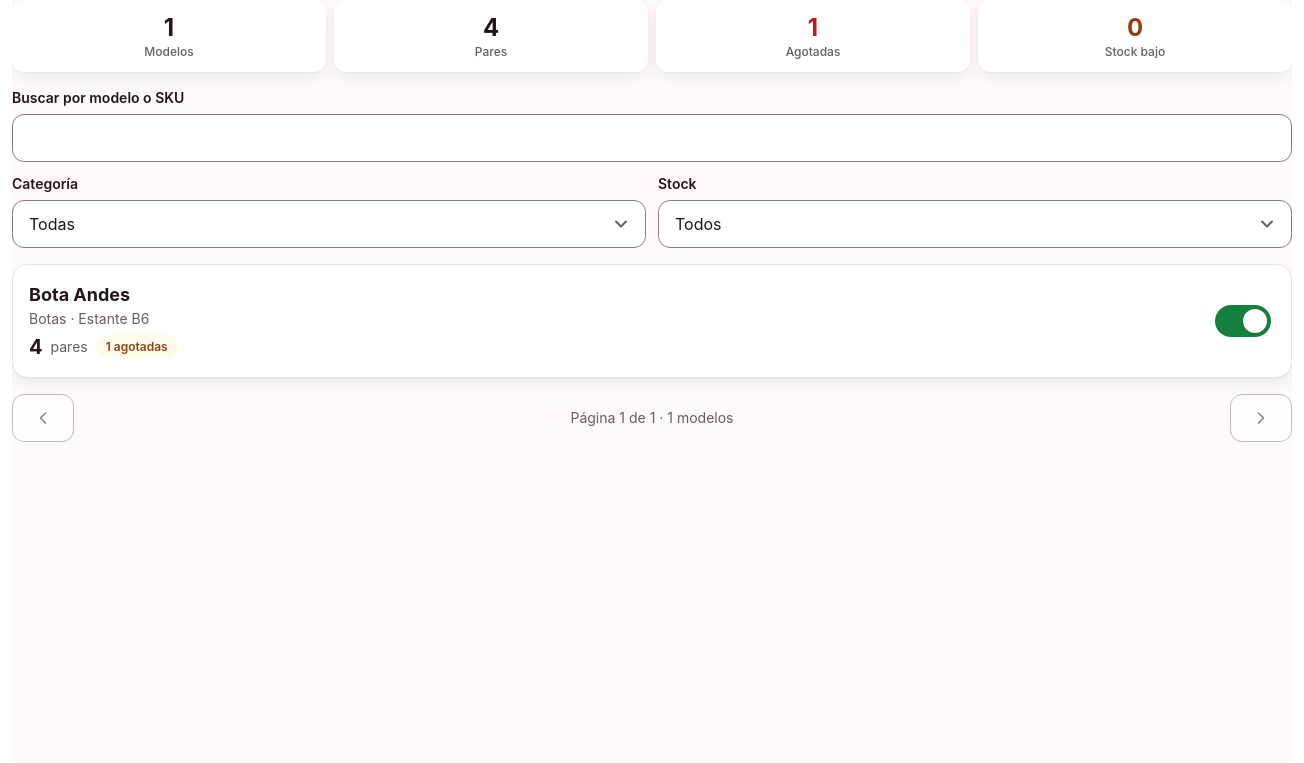
Test case: Inventario: matriz — al tocar una celda aparecen ingresar, retirar y ajustar
Click the button "Bota Andes Botas · Estante B6 4 pares 1 agotadas" at (80, 294), box x1=29 y1=273 x2=1203 y2=369
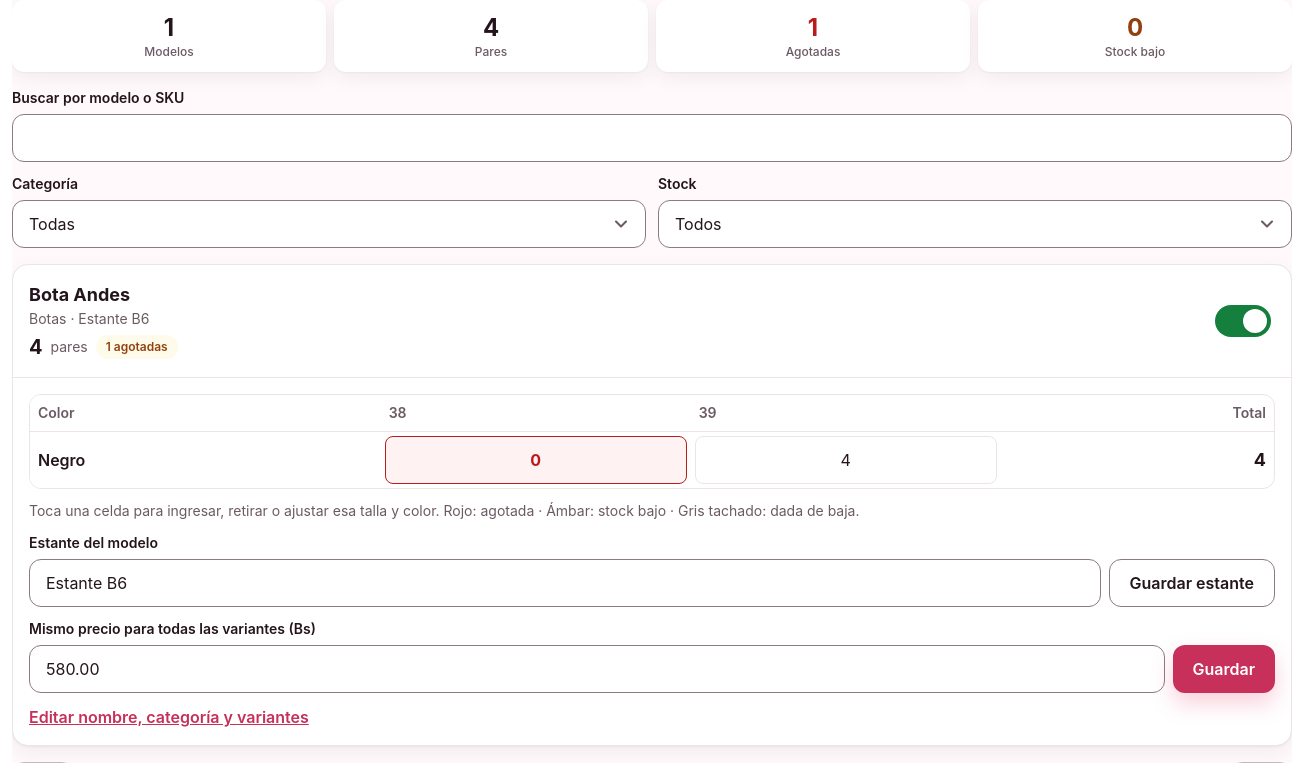
Click the button named "Talla 39 Negro: 4 disponibles" at (846, 460), box x1=695 y1=436 x2=997 y2=484
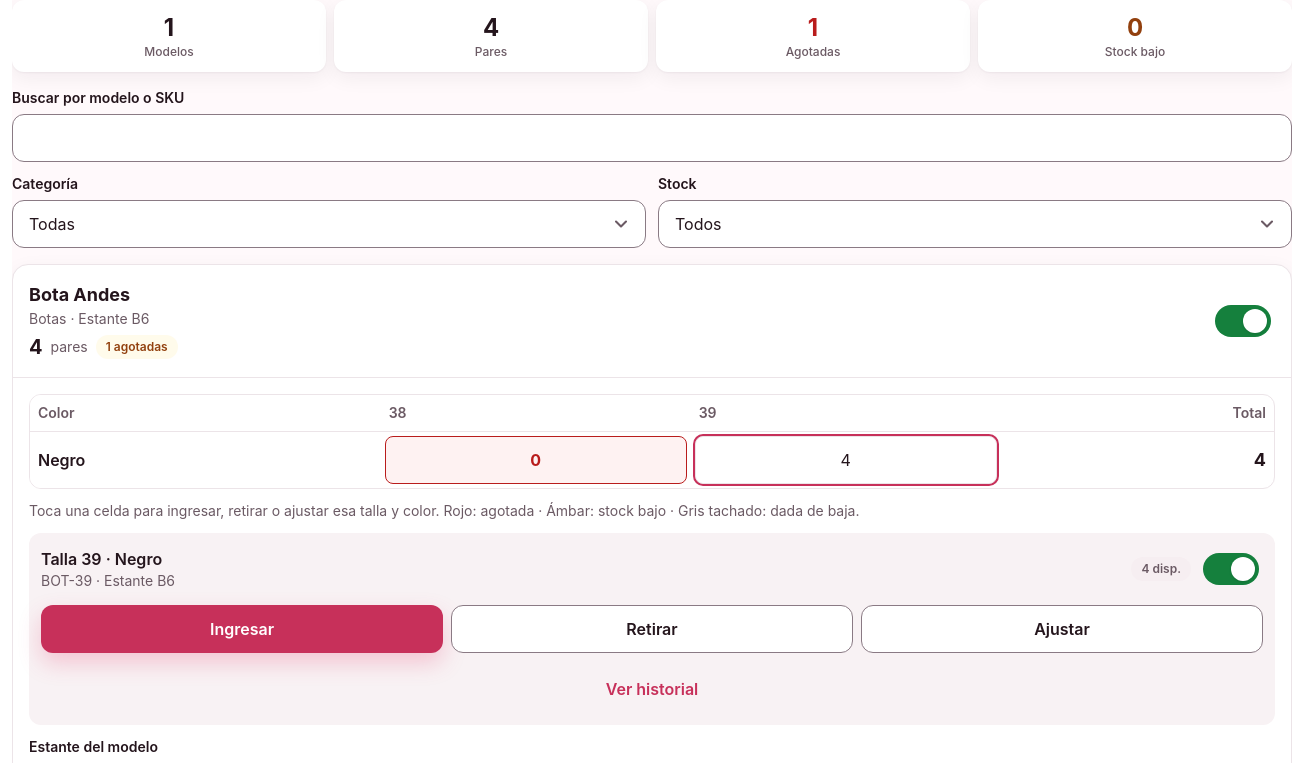
Now the button "Ingresar" is shown, box x1=41 y1=605 x2=443 y2=653
Now the button "Retirar" is shown, box x1=451 y1=605 x2=853 y2=653
Now the button "Ajustar" is shown, box x1=861 y1=605 x2=1263 y2=653
